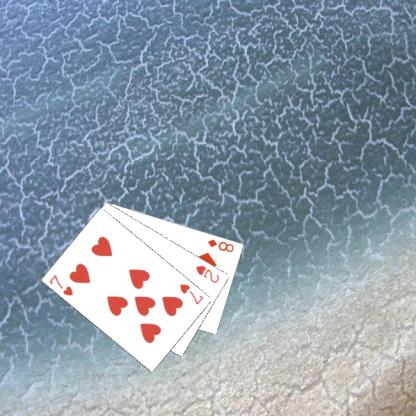2H: (192, 262, 221, 285)
7H: (46, 271, 75, 297), (176, 281, 204, 307)
8D: (205, 236, 235, 254)
